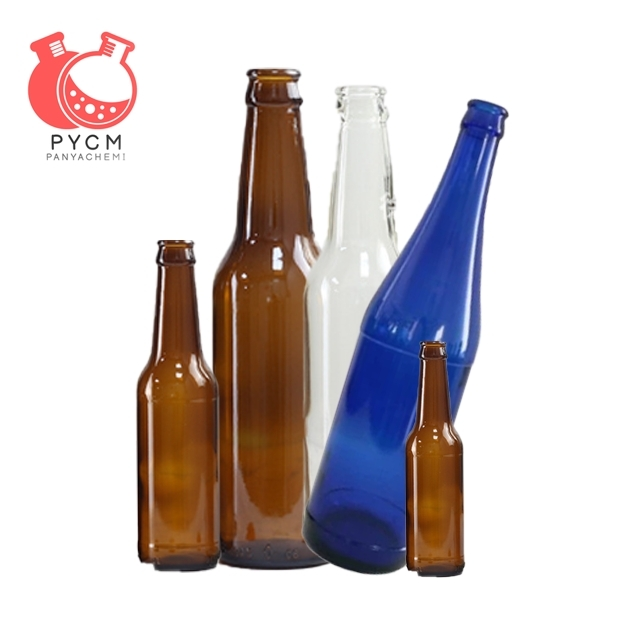glass_bottle: (137, 58, 515, 600)
